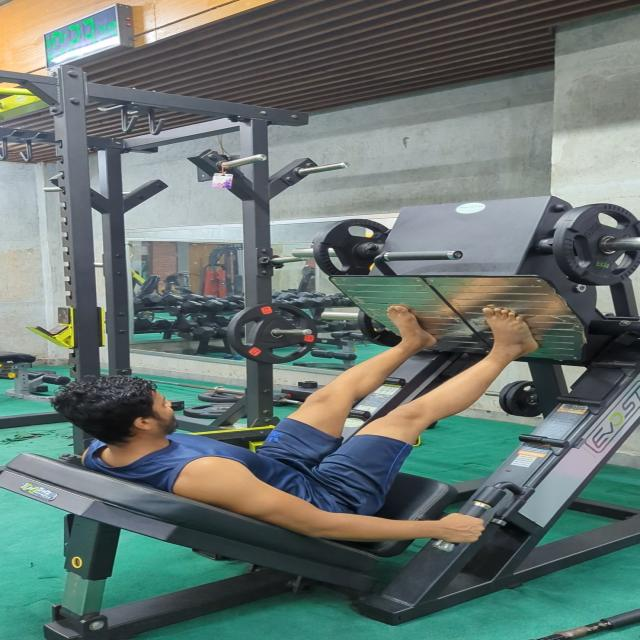Normal_LegPress: (42, 290, 545, 550)
